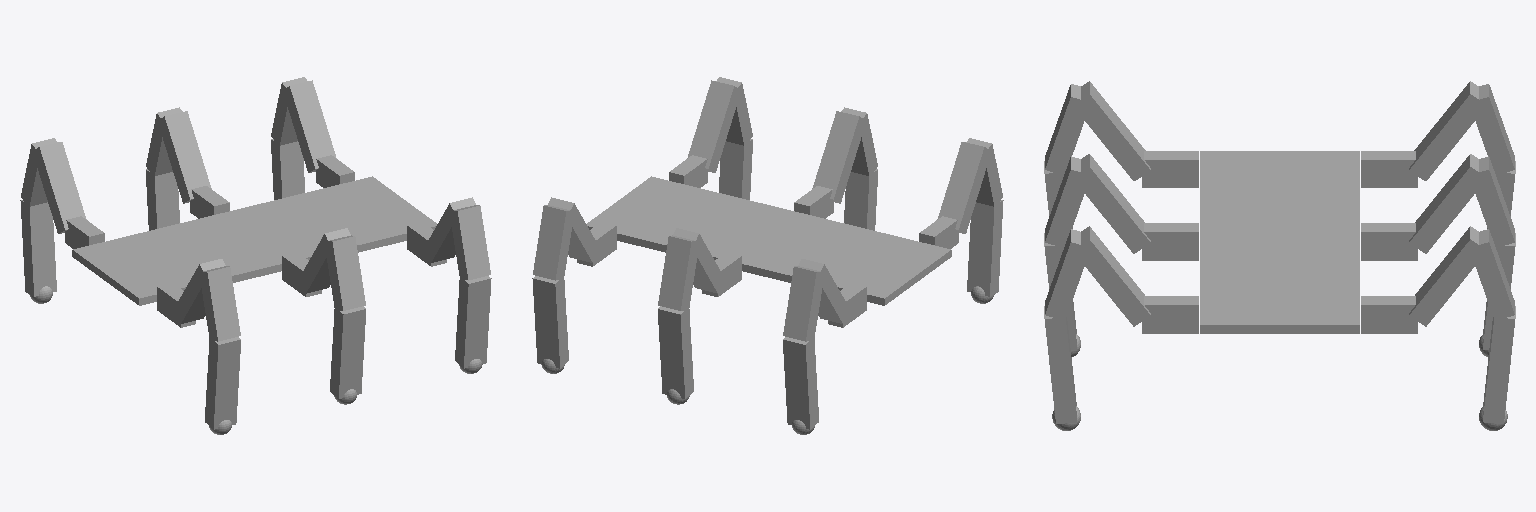
--- Render facts (derived) ---
Views: 3 orthographic renders of the robot side by side, from view 1: azimuth 30°, elevation 25°; view 2: azimuth 150°, elevation 25°; view 3: azimuth 270°, elevation 25°.
Model hexapodo with 32 links and 31 joints (24 revolute, 7 fixed), rooted at map, posed all joints at 0.
Visible links, largest first — view 1: base_link, tarsus_LF, tarsus_RM, tarsus_RF, tarsus_RR, femur_LR, femur_LM, femur_LF, tibia_RR, tibia_RF, tibia_RM, tarsus_LR (+13 smaller); view 2: base_link, tarsus_RF, tarsus_LM, tarsus_LF, tarsus_LR, femur_RM, femur_RR, femur_RF, tibia_LF, tibia_LR, tibia_LM, tarsus_RM (+13 smaller); view 3: base_link, femur_LR, femur_RR, femur_LF, femur_RF, femur_LM, femur_RM, tarsus_RR, tarsus_LR, coxa_RR, coxa_LR, coxa_RM (+11 smaller).
Boxes of the visible links, x1=… form: base_link: x1=72, y1=176, x2=436, y2=305; tarsus_LF: x1=20, y1=200, x2=56, y2=303; tarsus_RM: x1=330, y1=306, x2=365, y2=404; tarsus_RF: x1=205, y1=337, x2=240, y2=434; tarsus_RR: x1=455, y1=276, x2=491, y2=373; femur_LR: x1=283, y1=80, x2=336, y2=172; femur_LM: x1=158, y1=111, x2=211, y2=203; femur_LF: x1=36, y1=142, x2=86, y2=233; tibia_RR: x1=450, y1=205, x2=490, y2=280; tibia_RF: x1=200, y1=266, x2=240, y2=341; tibia_RM: x1=327, y1=235, x2=365, y2=310; tarsus_LR: x1=271, y1=139, x2=304, y2=199; base_link: x1=587, y1=176, x2=951, y2=305; tarsus_RF: x1=967, y1=200, x2=1003, y2=303; tarsus_LM: x1=658, y1=306, x2=693, y2=404; tarsus_LF: x1=783, y1=337, x2=818, y2=434; tarsus_LR: x1=532, y1=276, x2=568, y2=373; femur_RM: x1=812, y1=111, x2=865, y2=203; femur_RR: x1=687, y1=80, x2=740, y2=172; femur_RF: x1=937, y1=142, x2=987, y2=233; tibia_LF: x1=783, y1=266, x2=823, y2=341; tibia_LR: x1=533, y1=205, x2=571, y2=280; tibia_LM: x1=658, y1=235, x2=696, y2=310; tarsus_RM: x1=844, y1=169, x2=877, y2=230; base_link: x1=1200, y1=151, x2=1359, y2=333; femur_LR: x1=1409, y1=226, x2=1486, y2=326; femur_RR: x1=1073, y1=226, x2=1150, y2=326; femur_LF: x1=1409, y1=81, x2=1487, y2=180; femur_RF: x1=1072, y1=81, x2=1150, y2=180; femur_LM: x1=1409, y1=154, x2=1486, y2=253; femur_RM: x1=1073, y1=154, x2=1150, y2=253; tarsus_RR: x1=1044, y1=306, x2=1080, y2=430; tarsus_LR: x1=1479, y1=306, x2=1515, y2=430; coxa_RR: x1=1142, y1=296, x2=1198, y2=333; coxa_LR: x1=1361, y1=296, x2=1417, y2=333; coxa_RM: x1=1142, y1=223, x2=1198, y2=260.
Size in the robot's own frame: 0.4267 by 0.4873 by 0.225 metres.
Geometry: primitives only (box / cylinder / sphere), no mesh files.

URDF robot description (hexapodo):
<?xml version="1.0" ?>
<!-- =================================================================================== -->
<!-- |    This document was autogenerated by xacro from [local-path]/WS_ROS/ws_tfg/src/hexapodo/hexapodo_description/urdf/mi_hexapodo.xacro | -->
<!-- |    EDITING THIS FILE BY HAND IS NOT RECOMMENDED                                 | -->
<!-- =================================================================================== -->
<robot name="hexapodo" xmlns:xacro="http://ros.org/wiki/xacro">
  <!-- Joint properties -->
  <!-- Build the body frame -->
  <link name="map"/>
  <joint name="base_joint" type="fixed">
    <parent link="map"/>
    <child link="base_link"/>
    <origin rpy="0 0 0" xyz="0 0 0"/>
  </joint>
  <link name="base_link">
    <inertial>
      <origin rpy="0 0 0" xyz="0 0 0"/>
      <mass value="0.5"/>
      <inertia ixx="0.569270833333" ixy="0" ixz="0" iyy="2.63648666667" iyz="0" izz="2.63648666667"/>
    </inertial>
    <visual>
      <origin rpy="0 0 0" xyz="0 0 0"/>
      <geometry>
        <box size="0.42672 0.165 0.01"/>
      </geometry>
      <material name="">
        <color rgba="0.7 0.7 0.7 1"/>
      </material>
    </visual>
    <collision>
      <origin rpy="0 0 0" xyz="0 0 0"/>
      <geometry>
        <box size="0.3556 0.165 0.004"/>
      </geometry>
    </collision>
  </link>
  <!-- Leg macro -->
  <!-- Build robot model -->
  <!-- leg position -->
  <joint name="leg_center_joint_RR" type="fixed">
    <origin rpy="0 0 0" xyz="0.1778 -0.08335 0"/>
    <parent link="base_link"/>
    <child link="leg_center_RR"/>
  </joint>
  <link name="leg_center_RR">
    <inertial>
      <origin rpy="0 0 0" xyz="0 0 0"/>
      <mass value="0.5"/>
      <inertia ixx="0.569270833333" ixy="0" ixz="0" iyy="2.63648666667" iyz="0" izz="2.63648666667"/>
    </inertial>
  </link>
  <!-- coxa -->
  <joint name="coxa_joint_RR" type="revolute">
    <origin rpy="0 0 -1.57079632679" xyz="0 0 0"/>
    <parent link="leg_center_RR"/>
    <child link="coxa_RR"/>
    <axis xyz="0 0 1"/>
    <limit effort="10000" lower="-3.14" upper="3.14" velocity="100"/>
  </joint>
  <link name="coxa_RR">
    <inertial>
      <origin rpy="0 0 0" xyz="0 0 0"/>
      <mass value="0.15"/>
      <inertia ixx="0.0096265625" ixy="0" ixz="0" iyy="0.093420185" iyz="0" izz="0.093420185"/>
    </inertial>
    <visual>
      <origin rpy="0 0 0" xyz="0.029465 0 0"/>
      <geometry>
        <box size="0.05893 0.022 0.0325"/>
      </geometry>
      <material name="">
        <color rgba="0.7 0.7 0.7 1"/>
      </material>
    </visual>
    <collision>
      <origin rpy="0 0 0" xyz="0.029465 0 0"/>
      <geometry>
        <box size="0.05893 0.022 0.0325"/>
      </geometry>
    </collision>
  </link>
  <!-- femur -->
  <joint name="femur_joint_RR" type="revolute">
    <origin rpy="-1.57079632679 +0.63 0" xyz="0.05893 0 0"/>
    <parent link="coxa_RR"/>
    <child link="femur_RR"/>
    <axis xyz="0 0 1"/>
    <limit effort="10000" lower="-3.14" upper="3.14" velocity="100"/>
  </joint>
  <link name="femur_RR">
    <inertial>
      <origin rpy="0 0 0" xyz="0 -0.05399 0"/>
      <mass value="0.15"/>
      <inertia ixx="0.079474565" ixy="0" ixz="0" iyy="0.0096265625" iyz="0" izz="0.0096265625"/>
    </inertial>
    <visual>
      <origin rpy="0 0 0" xyz="0 -0.05399 0"/>
      <geometry>
        <box size="0.022 0.10798 0.0325"/>
      </geometry>
      <material name="">
        <color rgba="0.7 0.7 0.7 1"/>
      </material>
    </visual>
    <collision>
      <origin rpy="0 0 0" xyz="0 -0.05399 0"/>
      <geometry>
        <box size="0.022 0.10798 0.0325"/>
      </geometry>
    </collision>
  </link>
  <!-- tibia -->
  <joint name="tibia_joint_RR" type="revolute">
    <origin rpy="3.14159265359 0 0.63" xyz="0 -0.10798 0"/>
    <parent link="femur_RR"/>
    <child link="tibia_RR"/>
    <axis xyz="0 0 1"/>
    <limit effort="10000" lower="-3.14" upper="3.14" velocity="100"/>
  </joint>
  <link name="tibia_RR">
    <inertial>
      <origin rpy="0 0 0" xyz="0.04387 0 0"/>
      <mass value="0.15"/>
      <inertia ixx="0.0096265625" ixy="0" ixz="0" iyy="0.054715985" iyz="0" izz="0.054715985"/>
    </inertial>
    <visual>
      <origin rpy="0 0 0" xyz="0.04387 0 0"/>
      <geometry>
        <box size="0.08774 0.022 0.0325"/>
      </geometry>
      <material name="">
        <color rgba="0.7 0.7 0.7 1"/>
      </material>
    </visual>
    <collision>
      <origin rpy="0 0 0" xyz="0.04387 0 0"/>
      <geometry>
        <box size="0.08774 0.022 0.0325"/>
      </geometry>
    </collision>
  </link>
  <!-- tarsus -->
  <joint name="tarsus_joint_RR" type="revolute">
    <origin rpy="0 0 -0.410796326795" xyz="0.08774 0 0"/>
    <parent link="tibia_RR"/>
    <child link="tarsus_RR"/>
    <axis xyz="0 0 1"/>
    <limit effort="10000" lower="-3.14" upper="3.14" velocity="100"/>
  </joint>
  <link name="tarsus_RR">
    <inertial>
      <origin rpy="0 0 0" xyz="0.060325 0 0"/>
      <mass value="0.15"/>
      <inertia ixx="0.0096265625" ixy="0" ixz="0" iyy="0.097579203125" iyz="0" izz="0.097579203125"/>
    </inertial>
    <visual>
      <origin rpy="0 0 0" xyz="0.060325 0 0"/>
      <geometry>
        <box size="0.12065 0.022 0.0325"/>
      </geometry>
      <material name="">
        <color rgba="0.7 0.7 0.7 1"/>
      </material>
    </visual>
    <visual>
      <origin rpy="0 0 0" xyz="0.12065 0 0"/>
      <geometry>
        <sphere radius="0.015"/>
      </geometry>
      <material name="">
        <color rgba="0.7 0.7 0.7 1"/>
      </material>
    </visual>
    <collision>
      <origin rpy="0 0 0" xyz="0.060325 0 0"/>
      <geometry>
        <box size="0.12065 0.022 0.0325"/>
      </geometry>
    </collision>
    <collision>
      <origin rpy="0 0 0" xyz="0.12065 0 0"/>
      <geometry>
        <sphere radius="0.015"/>
      </geometry>
    </collision>
  </link>
  <!-- leg position -->
  <joint name="leg_center_joint_RM" type="fixed">
    <origin rpy="0 0 0" xyz="0.0 -0.08335 0"/>
    <parent link="base_link"/>
    <child link="leg_center_RM"/>
  </joint>
  <link name="leg_center_RM">
    <inertial>
      <origin rpy="0 0 0" xyz="0 0 0"/>
      <mass value="0.5"/>
      <inertia ixx="0.569270833333" ixy="0" ixz="0" iyy="2.63648666667" iyz="0" izz="2.63648666667"/>
    </inertial>
  </link>
  <!-- coxa -->
  <joint name="coxa_joint_RM" type="revolute">
    <origin rpy="0 0 -1.57079632679" xyz="0 0 0"/>
    <parent link="leg_center_RM"/>
    <child link="coxa_RM"/>
    <axis xyz="0 0 1"/>
    <limit effort="10000" lower="-3.14" upper="3.14" velocity="100"/>
  </joint>
  <link name="coxa_RM">
    <inertial>
      <origin rpy="0 0 0" xyz="0 0 0"/>
      <mass value="0.15"/>
      <inertia ixx="0.0096265625" ixy="0" ixz="0" iyy="0.093420185" iyz="0" izz="0.093420185"/>
    </inertial>
    <visual>
      <origin rpy="0 0 0" xyz="0.029465 0 0"/>
      <geometry>
        <box size="0.05893 0.022 0.0325"/>
      </geometry>
      <material name="">
        <color rgba="0.7 0.7 0.7 1"/>
      </material>
    </visual>
    <collision>
      <origin rpy="0 0 0" xyz="0.029465 0 0"/>
      <geometry>
        <box size="0.05893 0.022 0.0325"/>
      </geometry>
    </collision>
  </link>
  <!-- femur -->
  <joint name="femur_joint_RM" type="revolute">
    <origin rpy="-1.57079632679 +0.63 0" xyz="0.05893 0 0"/>
    <parent link="coxa_RM"/>
    <child link="femur_RM"/>
    <axis xyz="0 0 1"/>
    <limit effort="10000" lower="-3.14" upper="3.14" velocity="100"/>
  </joint>
  <link name="femur_RM">
    <inertial>
      <origin rpy="0 0 0" xyz="0 -0.05399 0"/>
      <mass value="0.15"/>
      <inertia ixx="0.079474565" ixy="0" ixz="0" iyy="0.0096265625" iyz="0" izz="0.0096265625"/>
    </inertial>
    <visual>
      <origin rpy="0 0 0" xyz="0 -0.05399 0"/>
      <geometry>
        <box size="0.022 0.10798 0.0325"/>
      </geometry>
      <material name="">
        <color rgba="0.7 0.7 0.7 1"/>
      </material>
    </visual>
    <collision>
      <origin rpy="0 0 0" xyz="0 -0.05399 0"/>
      <geometry>
        <box size="0.022 0.10798 0.0325"/>
      </geometry>
    </collision>
  </link>
  <!-- tibia -->
  <joint name="tibia_joint_RM" type="revolute">
    <origin rpy="3.14159265359 0 0.63" xyz="0 -0.10798 0"/>
    <parent link="femur_RM"/>
    <child link="tibia_RM"/>
    <axis xyz="0 0 1"/>
    <limit effort="10000" lower="-3.14" upper="3.14" velocity="100"/>
  </joint>
  <link name="tibia_RM">
    <inertial>
      <origin rpy="0 0 0" xyz="0.04387 0 0"/>
      <mass value="0.15"/>
      <inertia ixx="0.0096265625" ixy="0" ixz="0" iyy="0.054715985" iyz="0" izz="0.054715985"/>
    </inertial>
    <visual>
      <origin rpy="0 0 0" xyz="0.04387 0 0"/>
      <geometry>
        <box size="0.08774 0.022 0.0325"/>
      </geometry>
      <material name="">
        <color rgba="0.7 0.7 0.7 1"/>
      </material>
    </visual>
    <collision>
      <origin rpy="0 0 0" xyz="0.04387 0 0"/>
      <geometry>
        <box size="0.08774 0.022 0.0325"/>
      </geometry>
    </collision>
  </link>
  <!-- tarsus -->
  <joint name="tarsus_joint_RM" type="revolute">
    <origin rpy="0 0 -0.410796326795" xyz="0.08774 0 0"/>
    <parent link="tibia_RM"/>
    <child link="tarsus_RM"/>
    <axis xyz="0 0 1"/>
    <limit effort="10000" lower="-3.14" upper="3.14" velocity="100"/>
  </joint>
  <link name="tarsus_RM">
    <inertial>
      <origin rpy="0 0 0" xyz="0.060325 0 0"/>
      <mass value="0.15"/>
      <inertia ixx="0.0096265625" ixy="0" ixz="0" iyy="0.097579203125" iyz="0" izz="0.097579203125"/>
    </inertial>
    <visual>
      <origin rpy="0 0 0" xyz="0.060325 0 0"/>
      <geometry>
        <box size="0.12065 0.022 0.0325"/>
      </geometry>
      <material name="">
        <color rgba="0.7 0.7 0.7 1"/>
      </material>
    </visual>
    <visual>
      <origin rpy="0 0 0" xyz="0.12065 0 0"/>
      <geometry>
        <sphere radius="0.015"/>
      </geometry>
      <material name="">
        <color rgba="0.7 0.7 0.7 1"/>
      </material>
    </visual>
    <collision>
      <origin rpy="0 0 0" xyz="0.060325 0 0"/>
      <geometry>
        <box size="0.12065 0.022 0.0325"/>
      </geometry>
    </collision>
    <collision>
      <origin rpy="0 0 0" xyz="0.12065 0 0"/>
      <geometry>
        <sphere radius="0.015"/>
      </geometry>
    </collision>
  </link>
  <!-- leg position -->
  <joint name="leg_center_joint_RF" type="fixed">
    <origin rpy="0 0 0" xyz="-0.1778 -0.08335 0"/>
    <parent link="base_link"/>
    <child link="leg_center_RF"/>
  </joint>
  <link name="leg_center_RF">
    <inertial>
      <origin rpy="0 0 0" xyz="0 0 0"/>
      <mass value="0.5"/>
      <inertia ixx="0.569270833333" ixy="0" ixz="0" iyy="2.63648666667" iyz="0" izz="2.63648666667"/>
    </inertial>
  </link>
  <!-- coxa -->
  <joint name="coxa_joint_RF" type="revolute">
    <origin rpy="0 0 -1.57079632679" xyz="0 0 0"/>
    <parent link="leg_center_RF"/>
    <child link="coxa_RF"/>
    <axis xyz="0 0 1"/>
    <limit effort="10000" lower="-3.14" upper="3.14" velocity="100"/>
  </joint>
  <link name="coxa_RF">
    <inertial>
      <origin rpy="0 0 0" xyz="0 0 0"/>
      <mass value="0.15"/>
      <inertia ixx="0.0096265625" ixy="0" ixz="0" iyy="0.093420185" iyz="0" izz="0.093420185"/>
    </inertial>
    <visual>
      <origin rpy="0 0 0" xyz="0.029465 0 0"/>
      <geometry>
        <box size="0.05893 0.022 0.0325"/>
      </geometry>
      <material name="">
        <color rgba="0.7 0.7 0.7 1"/>
      </material>
    </visual>
    <collision>
      <origin rpy="0 0 0" xyz="0.029465 0 0"/>
      <geometry>
        <box size="0.05893 0.022 0.0325"/>
      </geometry>
    </collision>
  </link>
  <!-- femur -->
  <joint name="femur_joint_RF" type="revolute">
    <origin rpy="-1.57079632679 +0.63 0" xyz="0.05893 0 0"/>
    <parent link="coxa_RF"/>
    <child link="femur_RF"/>
    <axis xyz="0 0 1"/>
    <limit effort="10000" lower="-3.14" upper="3.14" velocity="100"/>
  </joint>
  <link name="femur_RF">
    <inertial>
      <origin rpy="0 0 0" xyz="0 -0.05399 0"/>
      <mass value="0.15"/>
      <inertia ixx="0.079474565" ixy="0" ixz="0" iyy="0.0096265625" iyz="0" izz="0.0096265625"/>
    </inertial>
    <visual>
      <origin rpy="0 0 0" xyz="0 -0.05399 0"/>
      <geometry>
        <box size="0.022 0.10798 0.0325"/>
      </geometry>
      <material name="">
        <color rgba="0.7 0.7 0.7 1"/>
      </material>
    </visual>
    <collision>
      <origin rpy="0 0 0" xyz="0 -0.05399 0"/>
      <geometry>
        <box size="0.022 0.10798 0.0325"/>
      </geometry>
    </collision>
  </link>
  <!-- tibia -->
  <joint name="tibia_joint_RF" type="revolute">
    <origin rpy="3.14159265359 0 0.63" xyz="0 -0.10798 0"/>
    <parent link="femur_RF"/>
    <child link="tibia_RF"/>
    <axis xyz="0 0 1"/>
    <limit effort="10000" lower="-3.14" upper="3.14" velocity="100"/>
  </joint>
  <link name="tibia_RF">
    <inertial>
      <origin rpy="0 0 0" xyz="0.04387 0 0"/>
      <mass value="0.15"/>
      <inertia ixx="0.0096265625" ixy="0" ixz="0" iyy="0.054715985" iyz="0" izz="0.054715985"/>
    </inertial>
    <visual>
      <origin rpy="0 0 0" xyz="0.04387 0 0"/>
      <geometry>
        <box size="0.08774 0.022 0.0325"/>
      </geometry>
      <material name="">
        <color rgba="0.7 0.7 0.7 1"/>
      </material>
    </visual>
    <collision>
      <origin rpy="0 0 0" xyz="0.04387 0 0"/>
      <geometry>
        <box size="0.08774 0.022 0.0325"/>
      </geometry>
    </collision>
  </link>
  <!-- tarsus -->
  <joint name="tarsus_joint_RF" type="revolute">
    <origin rpy="0 0 -0.410796326795" xyz="0.08774 0 0"/>
    <parent link="tibia_RF"/>
    <child link="tarsus_RF"/>
    <axis xyz="0 0 1"/>
    <limit effort="10000" lower="-3.14" upper="3.14" velocity="100"/>
  </joint>
  <link name="tarsus_RF">
    <inertial>
      <origin rpy="0 0 0" xyz="0.060325 0 0"/>
      <mass value="0.15"/>
      <inertia ixx="0.0096265625" ixy="0" ixz="0" iyy="0.097579203125" iyz="0" izz="0.097579203125"/>
    </inertial>
    <visual>
      <origin rpy="0 0 0" xyz="0.060325 0 0"/>
      <geometry>
        <box size="0.12065 0.022 0.0325"/>
      </geometry>
      <material name="">
        <color rgba="0.7 0.7 0.7 1"/>
      </material>
    </visual>
    <visual>
      <origin rpy="0 0 0" xyz="0.12065 0 0"/>
      <geometry>
        <sphere radius="0.015"/>
      </geometry>
      <material name="">
        <color rgba="0.7 0.7 0.7 1"/>
      </material>
    </visual>
    <collision>
      <origin rpy="0 0 0" xyz="0.060325 0 0"/>
      <geometry>
        <box size="0.12065 0.022 0.0325"/>
      </geometry>
    </collision>
    <collision>
      <origin rpy="0 0 0" xyz="0.12065 0 0"/>
      <geometry>
        <sphere radius="0.015"/>
      </geometry>
    </collision>
  </link>
  <!-- leg position -->
  <joint name="leg_center_joint_LR" type="fixed">
    <origin rpy="0 0 0" xyz="0.1778 0.08335 0"/>
    <parent link="base_link"/>
    <child link="leg_center_LR"/>
  </joint>
  <link name="leg_center_LR">
    <inertial>
      <origin rpy="0 0 0" xyz="0 0 0"/>
      <mass value="0.5"/>
      <inertia ixx="0.569270833333" ixy="0" ixz="0" iyy="2.63648666667" iyz="0" izz="2.63648666667"/>
    </inertial>
  </link>
  <!-- coxa -->
  <joint name="coxa_joint_LR" type="revolute">
    <origin rpy="0 0 1.57079632679" xyz="0 0 0"/>
    <parent link="leg_center_LR"/>
    <child link="coxa_LR"/>
    <axis xyz="0 0 -1"/>
    <limit effort="10000" lower="-3.14" upper="3.14" velocity="100"/>
  </joint>
  <link name="coxa_LR">
    <inertial>
      <origin rpy="0 0 0" xyz="0 0 0"/>
      <mass value="0.15"/>
      <inertia ixx="0.0096265625" ixy="0" ixz="0" iyy="0.093420185" iyz="0" izz="0.093420185"/>
    </inertial>
    <visual>
      <origin rpy="0 0 0" xyz="0.029465 0 0"/>
      <geometry>
        <box size="0.05893 0.022 0.0325"/>
      </geometry>
      <material name="">
        <color rgba="0.7 0.7 0.7 1"/>
      </material>
    </visual>
    <collision>
      <origin rpy="0 0 0" xyz="0.029465 0 0"/>
      <geometry>
        <box size="0.05893 0.022 0.0325"/>
      </geometry>
    </collision>
  </link>
  <!-- femur -->
  <joint name="femur_joint_LR" type="revolute">
    <origin rpy="-1.57079632679 +0.63 0" xyz="0.05893 0 0"/>
    <parent link="coxa_LR"/>
    <child link="femur_LR"/>
    <axis xyz="0 0 -1"/>
    <limit effort="10000" lower="-3.14" upper="3.14" velocity="100"/>
  </joint>
  <link name="femur_LR">
    <inertial>
      <origin rpy="0 0 0" xyz="0 -0.05399 0"/>
      <mass value="0.15"/>
      <inertia ixx="0.079474565" ixy="0" ixz="0" iyy="0.0096265625" iyz="0" izz="0.0096265625"/>
    </inertial>
    <visual>
      <origin rpy="0 0 0" xyz="0 -0.05399 0"/>
      <geometry>
        <box size="0.022 0.10798 0.0325"/>
      </geometry>
      <material name="">
        <color rgba="0.7 0.7 0.7 1"/>
      </material>
    </visual>
    <collision>
      <origin rpy="0 0 0" xyz="0 -0.05399 0"/>
      <geometry>
        <box size="0.022 0.10798 0.0325"/>
      </geometry>
    </collision>
  </link>
  <!-- tibia -->
  <joint name="tibia_joint_LR" type="revolute">
    <origin rpy="3.14159265359 0 0.63" xyz="0 -0.10798 0"/>
    <parent link="femur_LR"/>
    <child link="tibia_LR"/>
    <axis xyz="0 0 -1"/>
    <limit effort="10000" lower="-3.14" upper="3.14" velocity="100"/>
  </joint>
  <link name="tibia_LR">
    <inertial>
      <origin rpy="0 0 0" xyz="0.04387 0 0"/>
      <mass value="0.15"/>
      <inertia ixx="0.0096265625" ixy="0" ixz="0" iyy="0.054715985" iyz="0" izz="0.054715985"/>
    </inertial>
    <visual>
      <origin rpy="0 0 0" xyz="0.04387 0 0"/>
      <geometry>
        <box size="0.08774 0.022 0.0325"/>
      </geometry>
      <material name="">
        <color rgba="0.7 0.7 0.7 1"/>
      </material>
    </visual>
    <collision>
      <origin rpy="0 0 0" xyz="0.04387 0 0"/>
      <geometry>
        <box size="0.08774 0.022 0.0325"/>
      </geometry>
    </collision>
  </link>
  <!-- tarsus -->
  <joint name="tarsus_joint_LR" type="revolute">
    <origin rpy="0 0 -0.410796326795" xyz="0.08774 0 0"/>
    <parent link="tibia_LR"/>
    <child link="tarsus_LR"/>
    <axis xyz="0 0 -1"/>
    <limit effort="10000" lower="-3.14" upper="3.14" velocity="100"/>
  </joint>
  <link name="tarsus_LR">
    <inertial>
      <origin rpy="0 0 0" xyz="0.060325 0 0"/>
      <mass value="0.15"/>
      <inertia ixx="0.0096265625" ixy="0" ixz="0" iyy="0.097579203125" iyz="0" izz="0.097579203125"/>
    </inertial>
    <visual>
      <origin rpy="0 0 0" xyz="0.060325 0 0"/>
      <geometry>
        <box size="0.12065 0.022 0.0325"/>
      </geometry>
      <material name="">
        <color rgba="0.7 0.7 0.7 1"/>
      </material>
    </visual>
    <visual>
      <origin rpy="0 0 0" xyz="0.12065 0 0"/>
      <geometry>
        <sphere radius="0.015"/>
      </geometry>
      <material name="">
        <color rgba="0.7 0.7 0.7 1"/>
      </material>
    </visual>
    <collision>
      <origin rpy="0 0 0" xyz="0.060325 0 0"/>
      <geometry>
        <box size="0.12065 0.022 0.0325"/>
      </geometry>
    </collision>
    <collision>
      <origin rpy="0 0 0" xyz="0.12065 0 0"/>
      <geometry>
        <sphere radius="0.015"/>
      </geometry>
    </collision>
  </link>
  <!-- leg position -->
  <joint name="leg_center_joint_LM" type="fixed">
    <origin rpy="0 0 0" xyz="0.0 0.08335 0"/>
    <parent link="base_link"/>
    <child link="leg_center_LM"/>
  </joint>
  <link name="leg_center_LM">
    <inertial>
      <origin rpy="0 0 0" xyz="0 0 0"/>
      <mass value="0.5"/>
      <inertia ixx="0.569270833333" ixy="0" ixz="0" iyy="2.63648666667" iyz="0" izz="2.63648666667"/>
    </inertial>
  </link>
  <!-- coxa -->
  <joint name="coxa_joint_LM" type="revolute">
    <origin rpy="0 0 1.57079632679" xyz="0 0 0"/>
    <parent link="leg_center_LM"/>
    <child link="coxa_LM"/>
    <axis xyz="0 0 -1"/>
    <limit effort="10000" lower="-3.14" upper="3.14" velocity="100"/>
  </joint>
  <link name="coxa_LM">
    <inertial>
      <origin rpy="0 0 0" xyz="0 0 0"/>
      <mass value="0.15"/>
      <inertia ixx="0.0096265625" ixy="0" ixz="0" iyy="0.093420185" iyz="0" izz="0.093420185"/>
    </inertial>
    <visual>
      <origin rpy="0 0 0" xyz="0.029465 0 0"/>
      <geometry>
        <box size="0.05893 0.022 0.0325"/>
      </geometry>
      <material name="">
        <color rgba="0.7 0.7 0.7 1"/>
      </material>
    </visual>
    <collision>
      <origin rpy="0 0 0" xyz="0.029465 0 0"/>
      <geometry>
        <box size="0.05893 0.022 0.0325"/>
      </geometry>
    </collision>
  </link>
  <!-- femur -->
  <joint name="femur_joint_LM" type="revolute">
    <origin rpy="-1.57079632679 +0.63 0" xyz="0.05893 0 0"/>
    <parent link="coxa_LM"/>
    <child link="femur_LM"/>
    <axis xyz="0 0 -1"/>
    <limit effort="10000" lower="-3.14" upper="3.14" velocity="100"/>
  </joint>
  <link name="femur_LM">
    <inertial>
      <origin rpy="0 0 0" xyz="0 -0.05399 0"/>
      <mass value="0.15"/>
      <inertia ixx="0.079474565" ixy="0" ixz="0" iyy="0.0096265625" iyz="0" izz="0.0096265625"/>
    </inertial>
    <visual>
      <origin rpy="0 0 0" xyz="0 -0.05399 0"/>
      <geometry>
        <box size="0.022 0.10798 0.0325"/>
      </geometry>
      <material name="">
        <color rgba="0.7 0.7 0.7 1"/>
      </material>
    </visual>
    <collision>
      <origin rpy="0 0 0" xyz="0 -0.05399 0"/>
      <geometry>
        <box size="0.022 0.10798 0.0325"/>
      </geometry>
    </collision>
  </link>
  <!-- tibia -->
  <joint name="tibia_joint_LM" type="revolute">
    <origin rpy="3.14159265359 0 0.63" xyz="0 -0.10798 0"/>
    <parent link="femur_LM"/>
    <child link="tibia_LM"/>
    <axis xyz="0 0 -1"/>
    <limit effort="10000" lower="-3.14" upper="3.14" velocity="100"/>
  </joint>
  <link name="tibia_LM">
    <inertial>
      <origin rpy="0 0 0" xyz="0.04387 0 0"/>
      <mass value="0.15"/>
      <inertia ixx="0.0096265625" ixy="0" ixz="0" iyy="0.054715985" iyz="0" izz="0.054715985"/>
    </inertial>
    <visual>
      <origin rpy="0 0 0" xyz="0.04387 0 0"/>
      <geometry>
        <box size="0.08774 0.022 0.0325"/>
      </geometry>
      <material name="">
        <color rgba="0.7 0.7 0.7 1"/>
      </material>
    </visual>
    <collision>
      <origin rpy="0 0 0" xyz="0.04387 0 0"/>
      <geometry>
        <box size="0.08774 0.022 0.0325"/>
      </geometry>
    </collision>
  </link>
  <!-- tarsus -->
  <joint name="tarsus_joint_LM" type="revolute">
    <origin rpy="0 0 -0.410796326795" xyz="0.08774 0 0"/>
    <parent link="tibia_LM"/>
    <child link="tarsus_LM"/>
    <axis xyz="0 0 -1"/>
    <limit effort="10000" lower="-3.14" upper="3.14" velocity="100"/>
  </joint>
  <link name="tarsus_LM">
    <inertial>
      <origin rpy="0 0 0" xyz="0.060325 0 0"/>
      <mass value="0.15"/>
      <inertia ixx="0.0096265625" ixy="0" ixz="0" iyy="0.097579203125" iyz="0" izz="0.097579203125"/>
    </inertial>
    <visual>
      <origin rpy="0 0 0" xyz="0.060325 0 0"/>
      <geometry>
        <box size="0.12065 0.022 0.0325"/>
      </geometry>
      <material name="">
        <color rgba="0.7 0.7 0.7 1"/>
      </material>
    </visual>
    <visual>
      <origin rpy="0 0 0" xyz="0.12065 0 0"/>
      <geometry>
        <sphere radius="0.015"/>
      </geometry>
      <material name="">
        <color rgba="0.7 0.7 0.7 1"/>
      </material>
    </visual>
    <collision>
      <origin rpy="0 0 0" xyz="0.060325 0 0"/>
      <geometry>
        <box size="0.12065 0.022 0.0325"/>
      </geometry>
    </collision>
    <collision>
      <origin rpy="0 0 0" xyz="0.12065 0 0"/>
      <geometry>
        <sphere radius="0.015"/>
      </geometry>
    </collision>
  </link>
  <!-- leg position -->
  <joint name="leg_center_joint_LF" type="fixed">
    <origin rpy="0 0 0" xyz="-0.1778 0.08335 0"/>
    <parent link="base_link"/>
    <child link="leg_center_LF"/>
  </joint>
  <link name="leg_center_LF">
    <inertial>
      <origin rpy="0 0 0" xyz="0 0 0"/>
      <mass value="0.5"/>
      <inertia ixx="0.569270833333" ixy="0" ixz="0" iyy="2.63648666667" iyz="0" izz="2.63648666667"/>
    </inertial>
  </link>
  <!-- coxa -->
  <joint name="coxa_joint_LF" type="revolute">
    <origin rpy="0 0 1.57079632679" xyz="0 0 0"/>
    <parent link="leg_center_LF"/>
    <child link="coxa_LF"/>
    <axis xyz="0 0 -1"/>
    <limit effort="10000" lower="-3.14" upper="3.14" velocity="100"/>
  </joint>
  <link name="coxa_LF">
    <inertial>
      <origin rpy="0 0 0" xyz="0 0 0"/>
      <mass value="0.15"/>
      <inertia ixx="0.0096265625" ixy="0" ixz="0" iyy="0.093420185" iyz="0" izz="0.093420185"/>
    </inertial>
    <visual>
      <origin rpy="0 0 0" xyz="0.029465 0 0"/>
      <geometry>
        <box size="0.05893 0.022 0.0325"/>
      </geometry>
      <material name="">
        <color rgba="0.7 0.7 0.7 1"/>
      </material>
    </visual>
    <collision>
      <origin rpy="0 0 0" xyz="0.029465 0 0"/>
      <geometry>
        <box size="0.05893 0.022 0.0325"/>
      </geometry>
    </collision>
  </link>
  <!-- femur -->
  <joint name="femur_joint_LF" type="revolute">
    <origin rpy="-1.57079632679 +0.63 0" xyz="0.05893 0 0"/>
    <parent link="coxa_LF"/>
    <child link="femur_LF"/>
    <axis xyz="0 0 -1"/>
    <limit effort="10000" lower="-3.14" upper="3.14" velocity="100"/>
  </joint>
  <link name="femur_LF">
    <inertial>
      <origin rpy="0 0 0" xyz="0 -0.05399 0"/>
      <mass value="0.15"/>
      <inertia ixx="0.079474565" ixy="0" ixz="0" iyy="0.0096265625" iyz="0" izz="0.0096265625"/>
    </inertial>
    <visual>
      <origin rpy="0 0 0" xyz="0 -0.05399 0"/>
      <geometry>
        <box size="0.022 0.10798 0.0325"/>
      </geometry>
      <material name="">
        <color rgba="0.7 0.7 0.7 1"/>
      </material>
    </visual>
    <collision>
      <origin rpy="0 0 0" xyz="0 -0.05399 0"/>
      <geometry>
        <box size="0.022 0.10798 0.0325"/>
      </geometry>
    </collision>
  </link>
  <!-- tibia -->
  <joint name="tibia_joint_LF" type="revolute">
    <origin rpy="3.14159265359 0 0.63" xyz="0 -0.10798 0"/>
    <parent link="femur_LF"/>
    <child link="tibia_LF"/>
    <axis xyz="0 0 -1"/>
    <limit effort="10000" lower="-3.14" upper="3.14" velocity="100"/>
  </joint>
  <link name="tibia_LF">
    <inertial>
      <origin rpy="0 0 0" xyz="0.04387 0 0"/>
      <mass value="0.15"/>
      <inertia ixx="0.0096265625" ixy="0" ixz="0" iyy="0.054715985" iyz="0" izz="0.054715985"/>
    </inertial>
    <visual>
      <origin rpy="0 0 0" xyz="0.04387 0 0"/>
      <geometry>
        <box size="0.08774 0.022 0.0325"/>
      </geometry>
      <material name="">
        <color rgba="0.7 0.7 0.7 1"/>
      </material>
    </visual>
    <collision>
      <origin rpy="0 0 0" xyz="0.04387 0 0"/>
      <geometry>
        <box size="0.08774 0.022 0.0325"/>
      </geometry>
    </collision>
  </link>
  <!-- tarsus -->
  <joint name="tarsus_joint_LF" type="revolute">
    <origin rpy="0 0 -0.410796326795" xyz="0.08774 0 0"/>
    <parent link="tibia_LF"/>
    <child link="tarsus_LF"/>
    <axis xyz="0 0 -1"/>
    <limit effort="10000" lower="-3.14" upper="3.14" velocity="100"/>
  </joint>
  <link name="tarsus_LF">
    <inertial>
      <origin rpy="0 0 0" xyz="0.060325 0 0"/>
      <mass value="0.15"/>
      <inertia ixx="0.0096265625" ixy="0" ixz="0" iyy="0.097579203125" iyz="0" izz="0.097579203125"/>
    </inertial>
    <visual>
      <origin rpy="0 0 0" xyz="0.060325 0 0"/>
      <geometry>
        <box size="0.12065 0.022 0.0325"/>
      </geometry>
      <material name="">
        <color rgba="0.7 0.7 0.7 1"/>
      </material>
    </visual>
    <visual>
      <origin rpy="0 0 0" xyz="0.12065 0 0"/>
      <geometry>
        <sphere radius="0.015"/>
      </geometry>
      <material name="">
        <color rgba="0.7 0.7 0.7 1"/>
      </material>
    </visual>
    <collision>
      <origin rpy="0 0 0" xyz="0.060325 0 0"/>
      <geometry>
        <box size="0.12065 0.022 0.0325"/>
      </geometry>
    </collision>
    <collision>
      <origin rpy="0 0 0" xyz="0.12065 0 0"/>
      <geometry>
        <sphere radius="0.015"/>
      </geometry>
    </collision>
  </link>
</robot>
